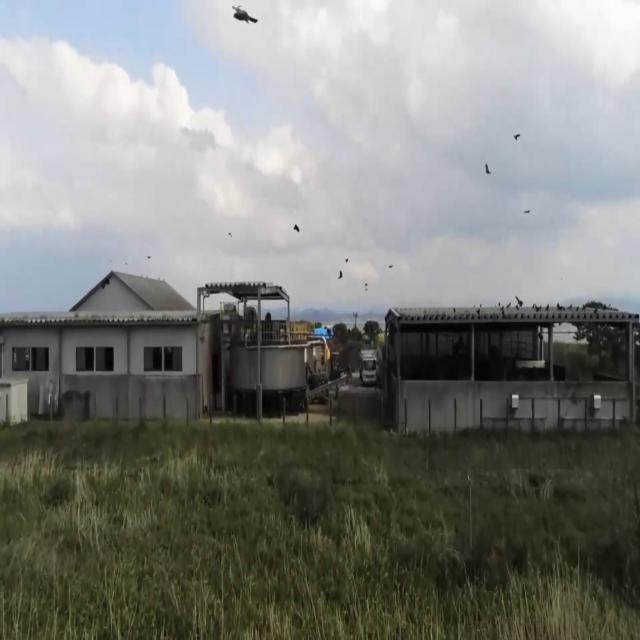bird: (231, 0, 258, 44), (514, 290, 524, 312), (512, 126, 520, 149), (524, 200, 531, 220)
